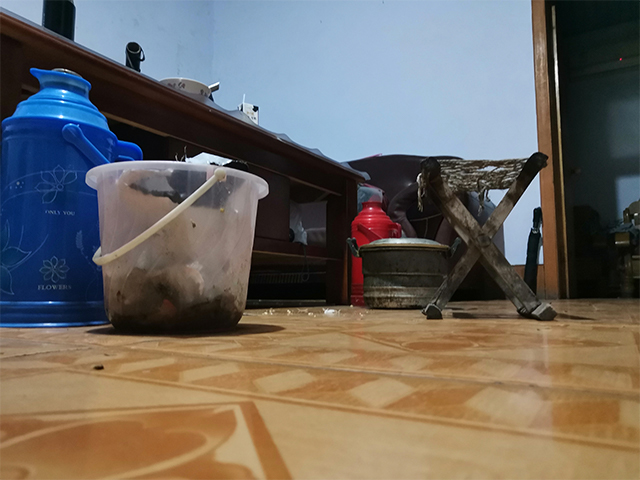stool: (416, 151, 560, 322)
table: (1, 3, 372, 307)
trashcan: (83, 159, 271, 336)
